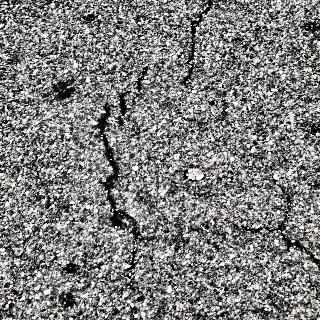crack: (94, 57, 150, 297), (232, 214, 320, 276), (180, 0, 216, 88)
